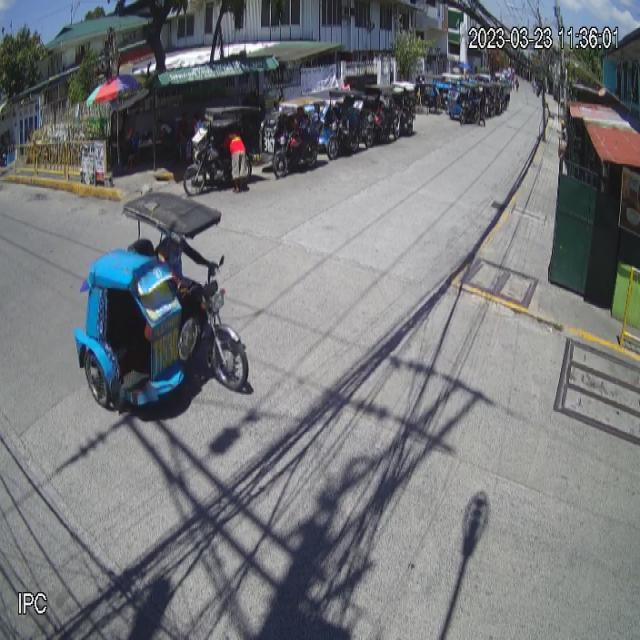Tricycle: (75, 192, 248, 418)
